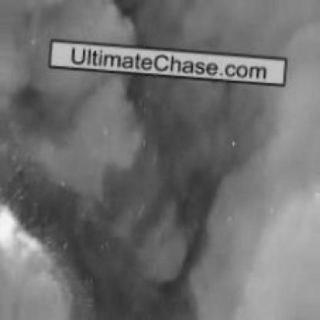Smoke: (8, 4, 300, 298)
